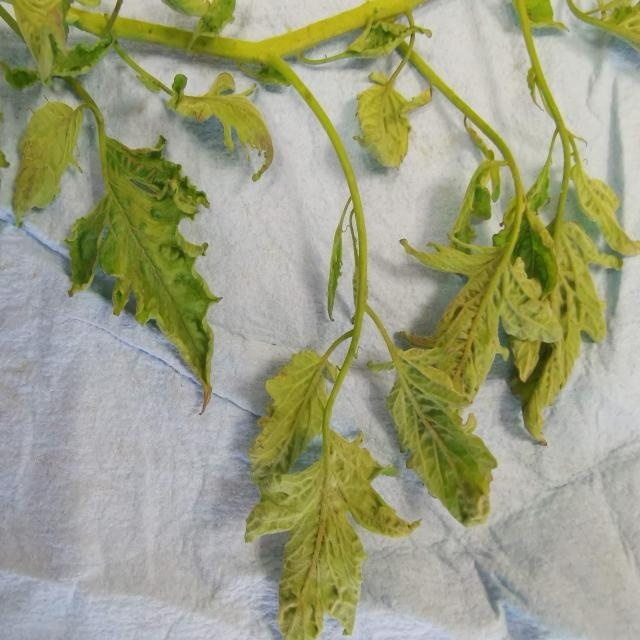T_L_R: (16, 79, 217, 401), (246, 429, 420, 639), (512, 221, 622, 441), (387, 341, 497, 526), (402, 241, 510, 401), (250, 333, 354, 488), (167, 74, 274, 163), (14, 1, 112, 84), (572, 149, 640, 256), (501, 258, 564, 344), (355, 74, 411, 169)
T_S_R: (271, 58, 369, 321), (111, 2, 423, 67), (411, 53, 526, 214), (517, 1, 567, 136), (324, 331, 361, 434), (556, 134, 572, 223)
